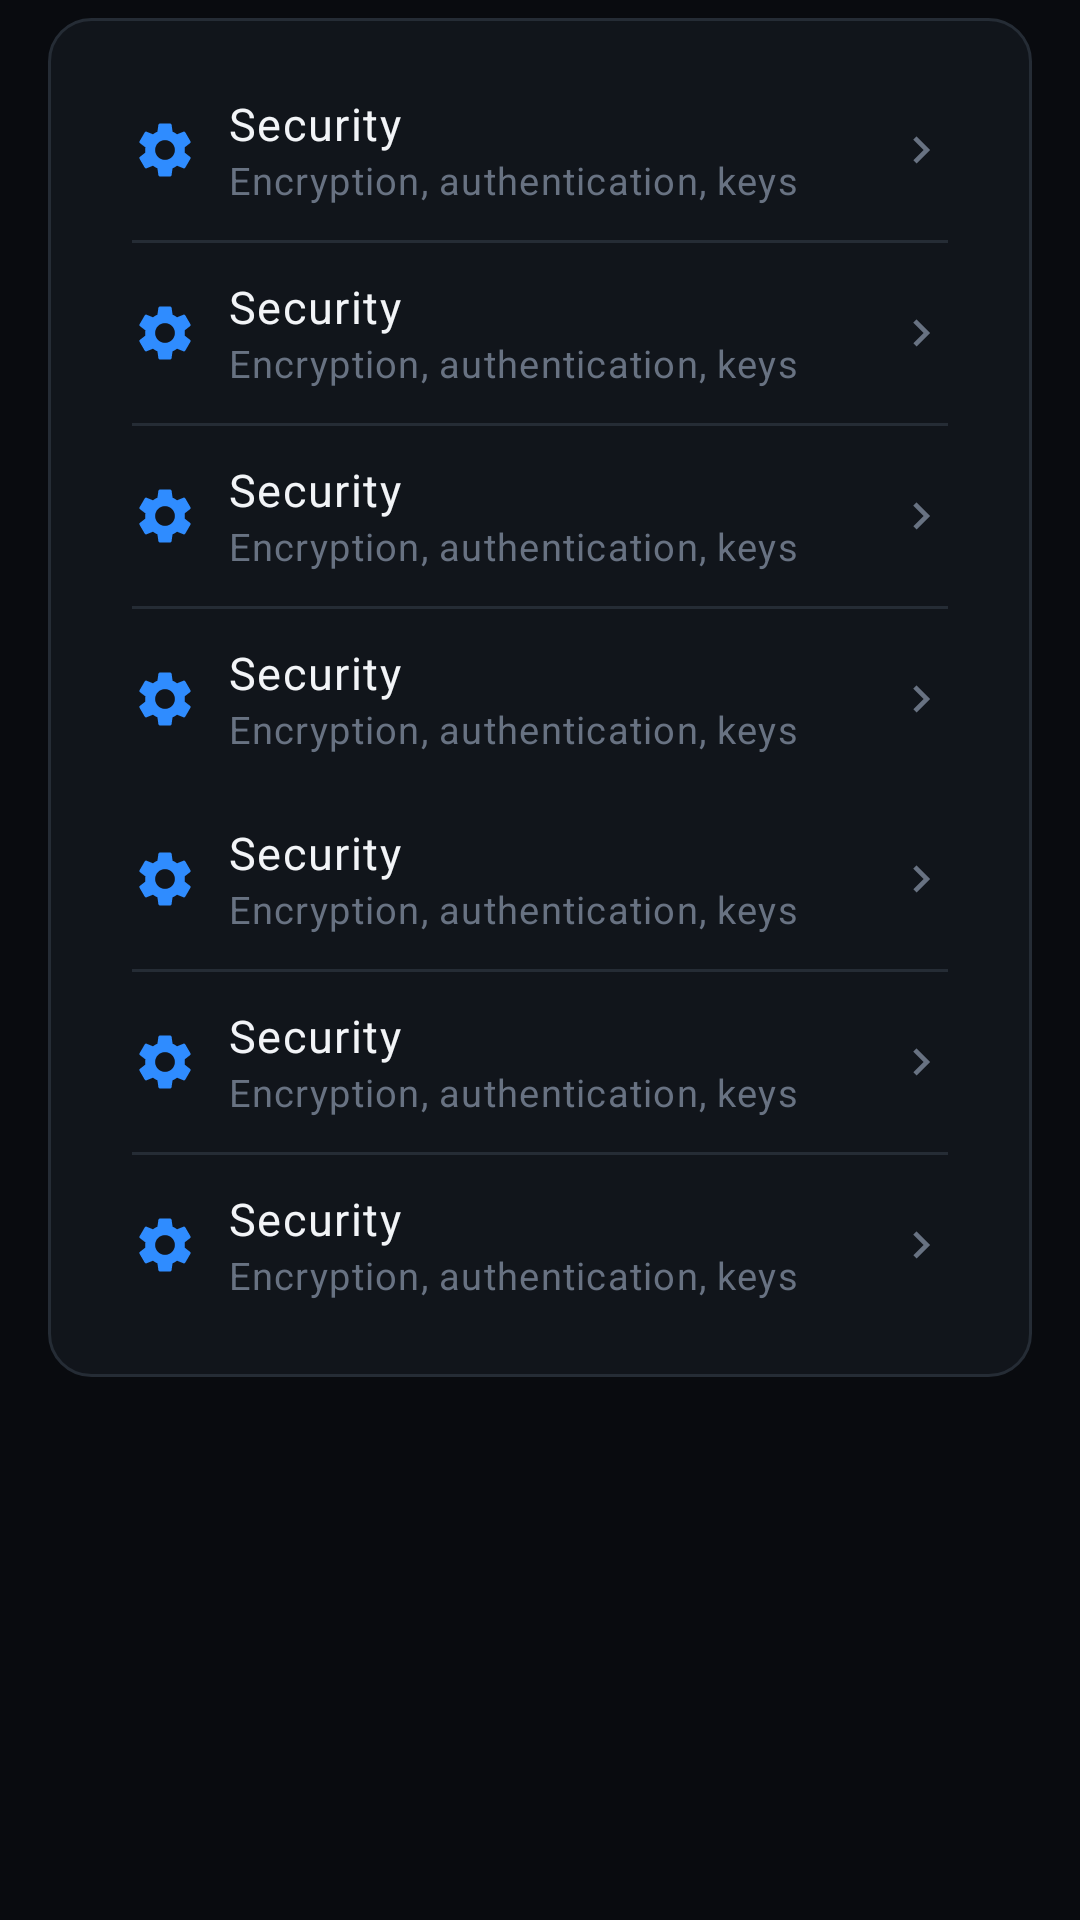

Locate icon controls on the screen. Image size 1080w x 1920h, boxes as {"x1": x1, "y1": y1, "x2": x2, "y2": y2}.
eq chevron: {"x1": 913, "y1": 136, "x2": 930, "y2": 164}, {"x1": 913, "y1": 319, "x2": 930, "y2": 347}, {"x1": 913, "y1": 502, "x2": 930, "y2": 530}, {"x1": 913, "y1": 685, "x2": 930, "y2": 713}, {"x1": 913, "y1": 865, "x2": 930, "y2": 893}, {"x1": 913, "y1": 1048, "x2": 930, "y2": 1076}, {"x1": 913, "y1": 1231, "x2": 930, "y2": 1259}
eq settings: {"x1": 139, "y1": 123, "x2": 191, "y2": 177}, {"x1": 139, "y1": 306, "x2": 191, "y2": 360}, {"x1": 139, "y1": 489, "x2": 191, "y2": 543}, {"x1": 139, "y1": 672, "x2": 191, "y2": 726}, {"x1": 139, "y1": 852, "x2": 191, "y2": 906}, {"x1": 139, "y1": 1035, "x2": 191, "y2": 1089}, {"x1": 139, "y1": 1218, "x2": 191, "y2": 1272}
